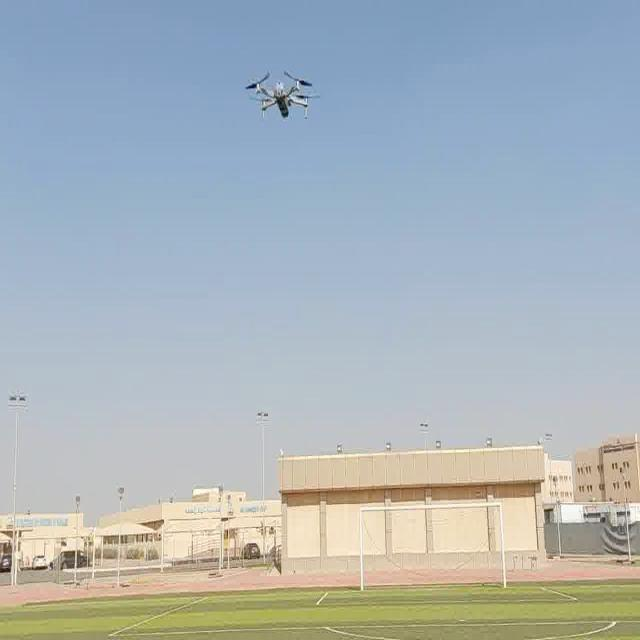drone: (246, 59, 318, 129)
